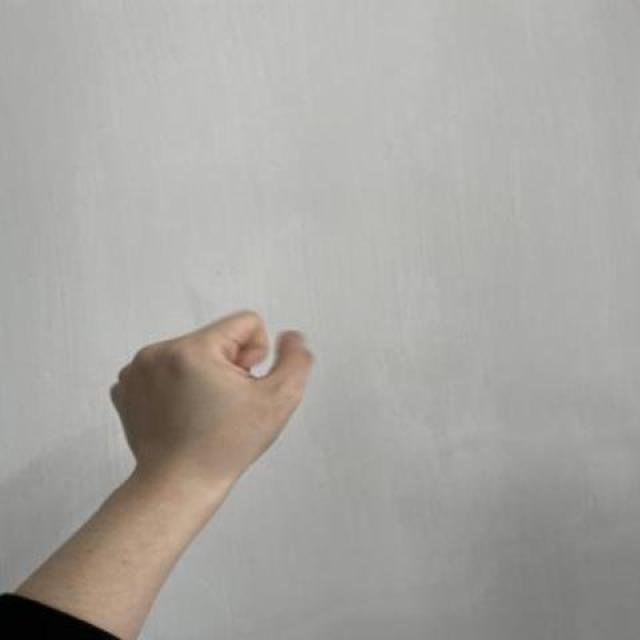Closed Hand: (105, 305, 316, 491)
